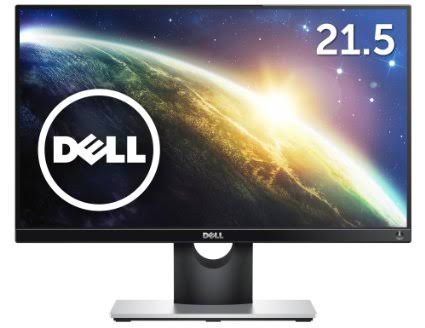dell-monitor-D1918H: (13, 4, 413, 322)
